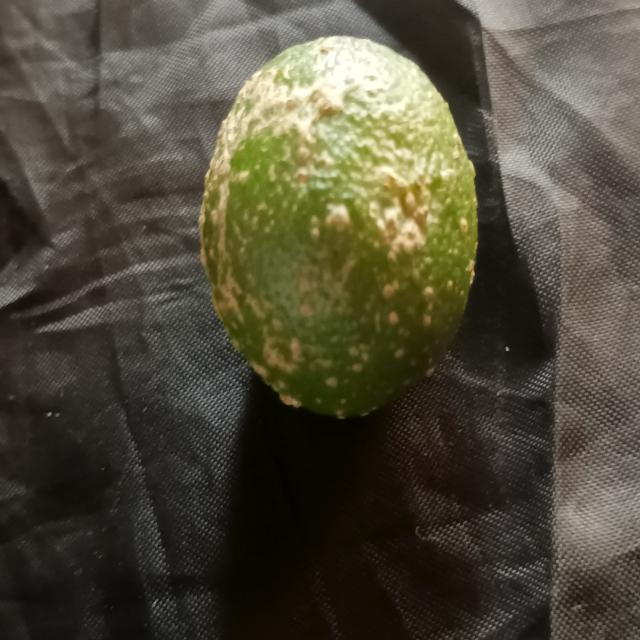scab: (196, 23, 486, 433)
